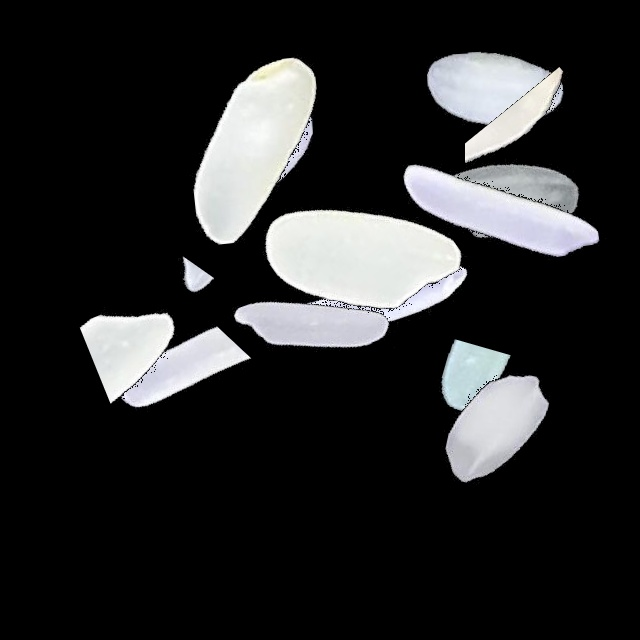Broken: (373, 42, 623, 215), (113, 267, 255, 517), (25, 298, 275, 410), (414, 273, 520, 523), (465, 43, 569, 293), (267, 267, 517, 348), (46, 256, 296, 336)
Full: (138, 11, 388, 261), (244, 177, 494, 427), (186, 197, 436, 447), (132, 27, 382, 277), (382, 72, 632, 322), (232, 124, 482, 374), (377, 84, 627, 334), (373, 302, 623, 552)
